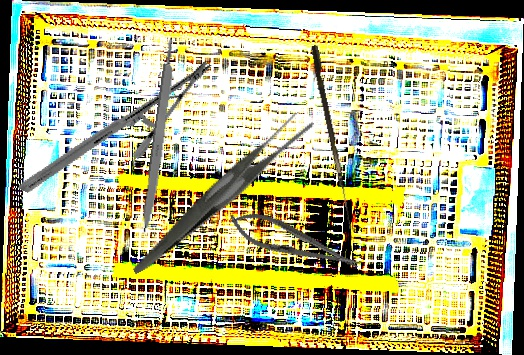Dressing Forceps: (102, 107, 340, 275)
Hook Surgical: (307, 44, 360, 230)
Needle Holder: (18, 12, 213, 242), (224, 203, 364, 282)
Scalpel Handle: (139, 36, 181, 235)
